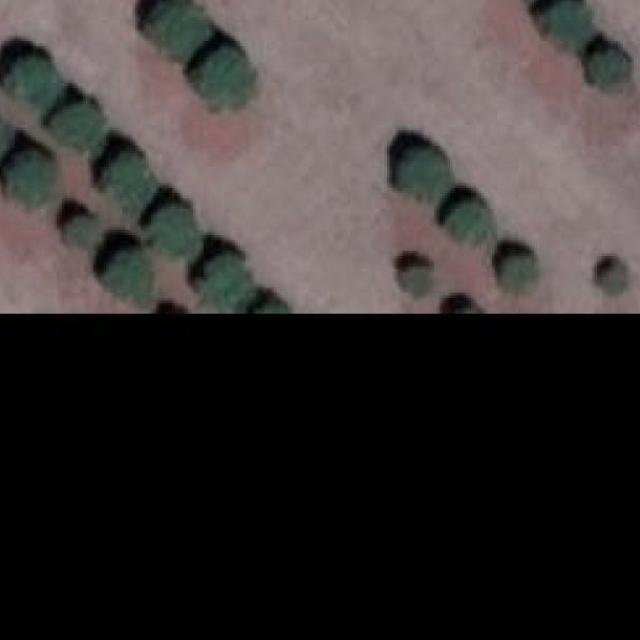Tree: (193, 41, 254, 109), (198, 254, 254, 312), (104, 149, 154, 212), (9, 48, 60, 109), (46, 102, 102, 154), (400, 144, 450, 201), (148, 0, 200, 54), (539, 0, 596, 49), (146, 204, 196, 259), (445, 198, 495, 246), (109, 249, 151, 304), (10, 146, 50, 203), (590, 50, 632, 94), (501, 250, 537, 292), (599, 261, 629, 293), (403, 264, 432, 296), (64, 214, 93, 243), (0, 112, 9, 157)
